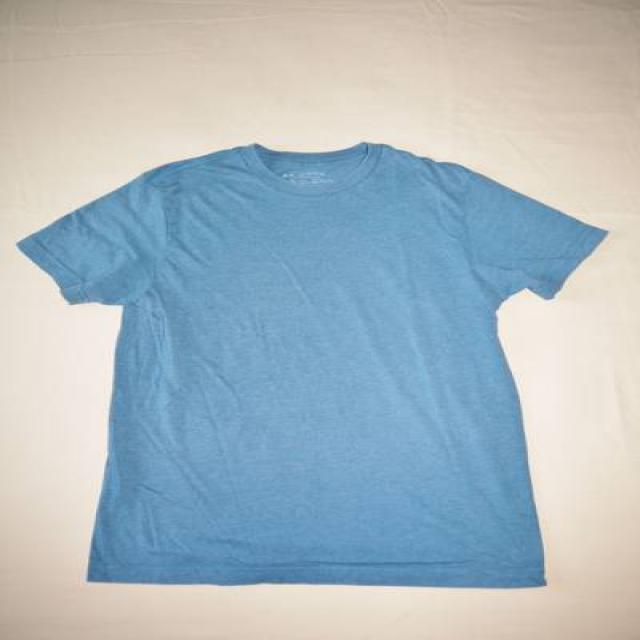shirt: (13, 141, 608, 587)
